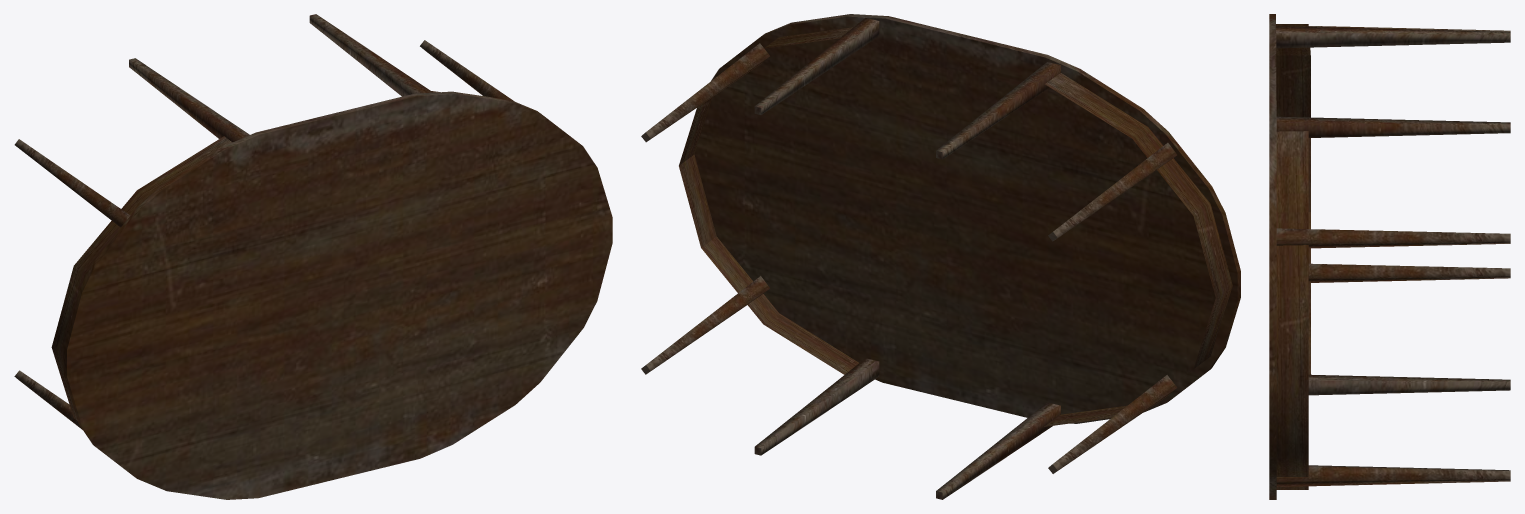
Rendered from furniture_ovaldiningtable.glb.
3 renders of one model, left to right at view 1: azimuth 30°, elevation 25°; view 2: azimuth 150°, elevation 25°; view 3: azimuth 270°, elevation 25°, orthographic. The views are drawn at different scales.
Bounding box in the file's own units: 88.53 × 56.31 × 33.04.
Materials: 1 (1 with a texture image).
